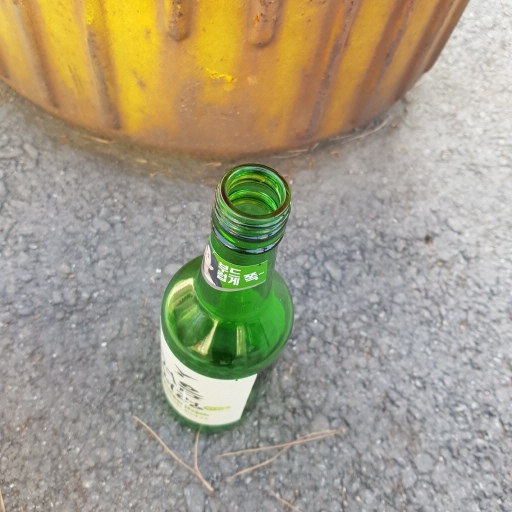Glass_0: (150, 161, 308, 434)
